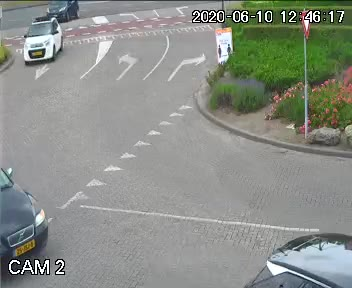car: (21, 24, 63, 69), (47, 0, 78, 21)
